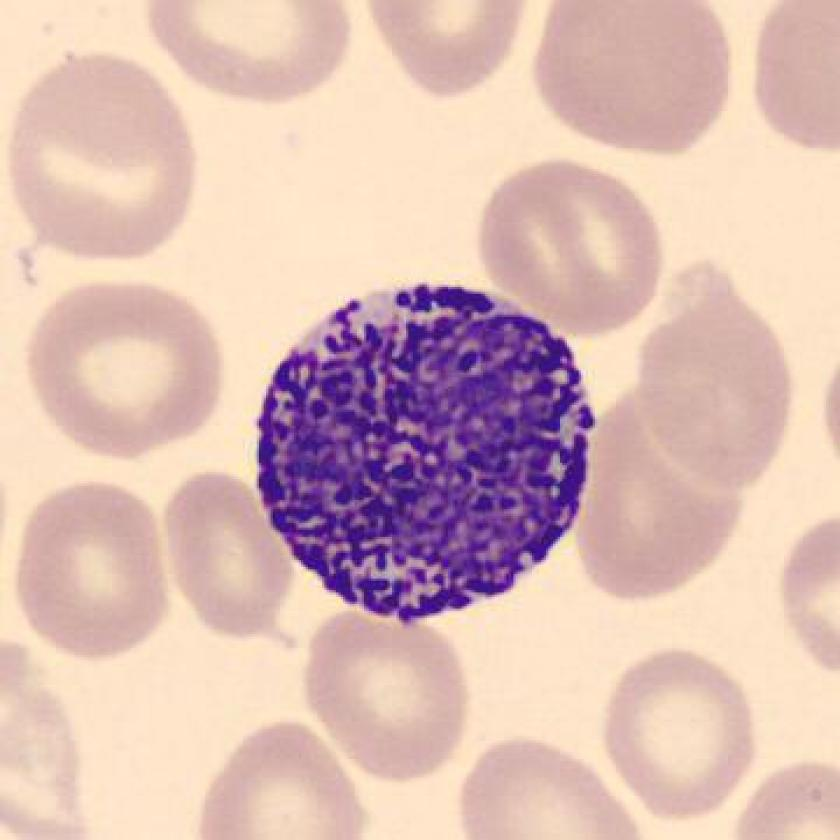basophil: (244, 274, 596, 624)
